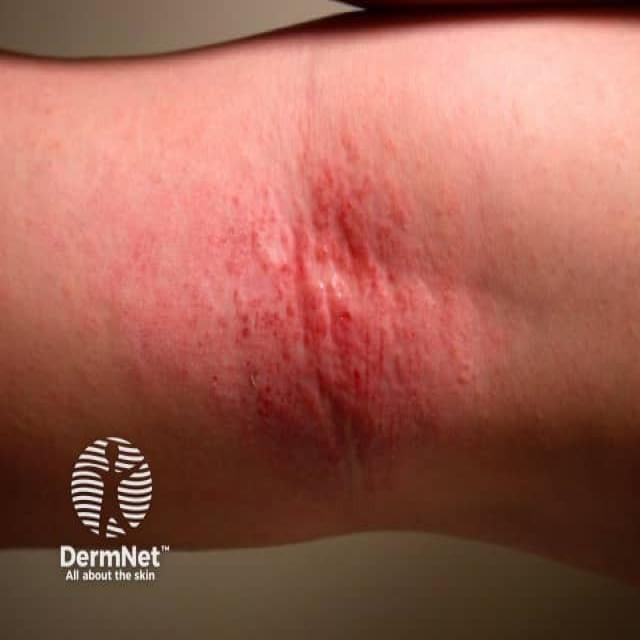Eczema: (199, 134, 492, 463)
